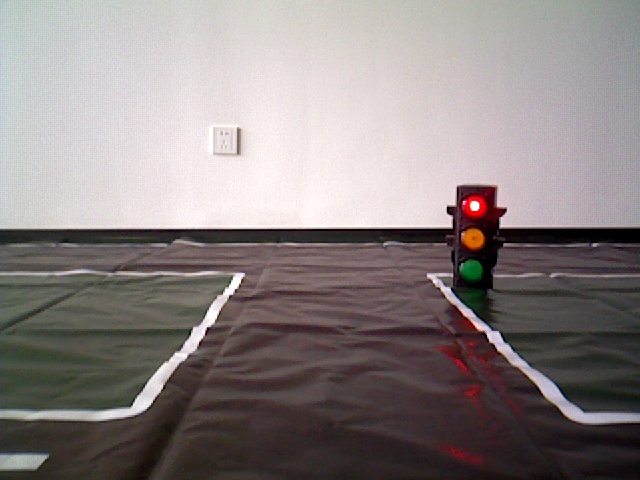red: (452, 188, 491, 293)
